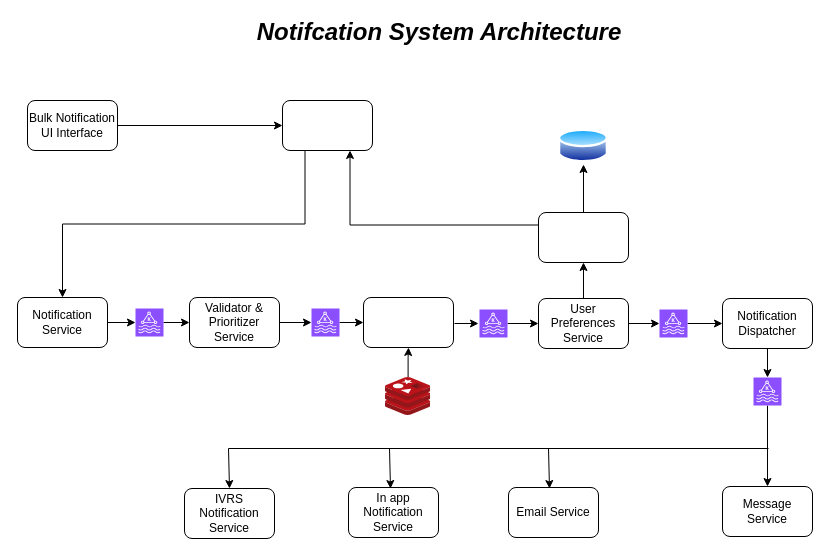
Image size: 830x556. Some labels were removed from this diagram. The shapes that lost their labels are listed below. From the top down, each one's centre as x and y in pixels, then its label:
At (x=327, y=125): "Bulk Notification Service".
At (x=583, y=237): "User Data Service".
At (x=408, y=322): "Rate Limiter Service".
